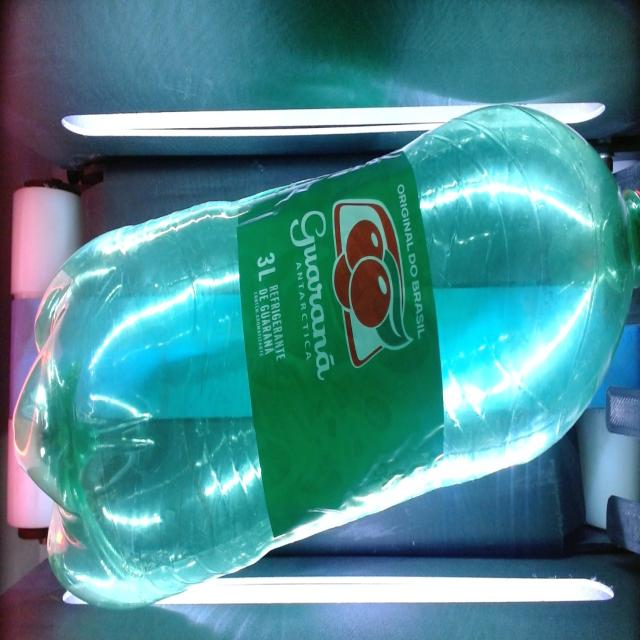bottom: (11, 223, 155, 624)
cap: (624, 166, 640, 297)
